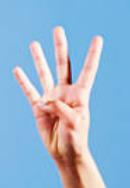right: (10, 24, 107, 158)
